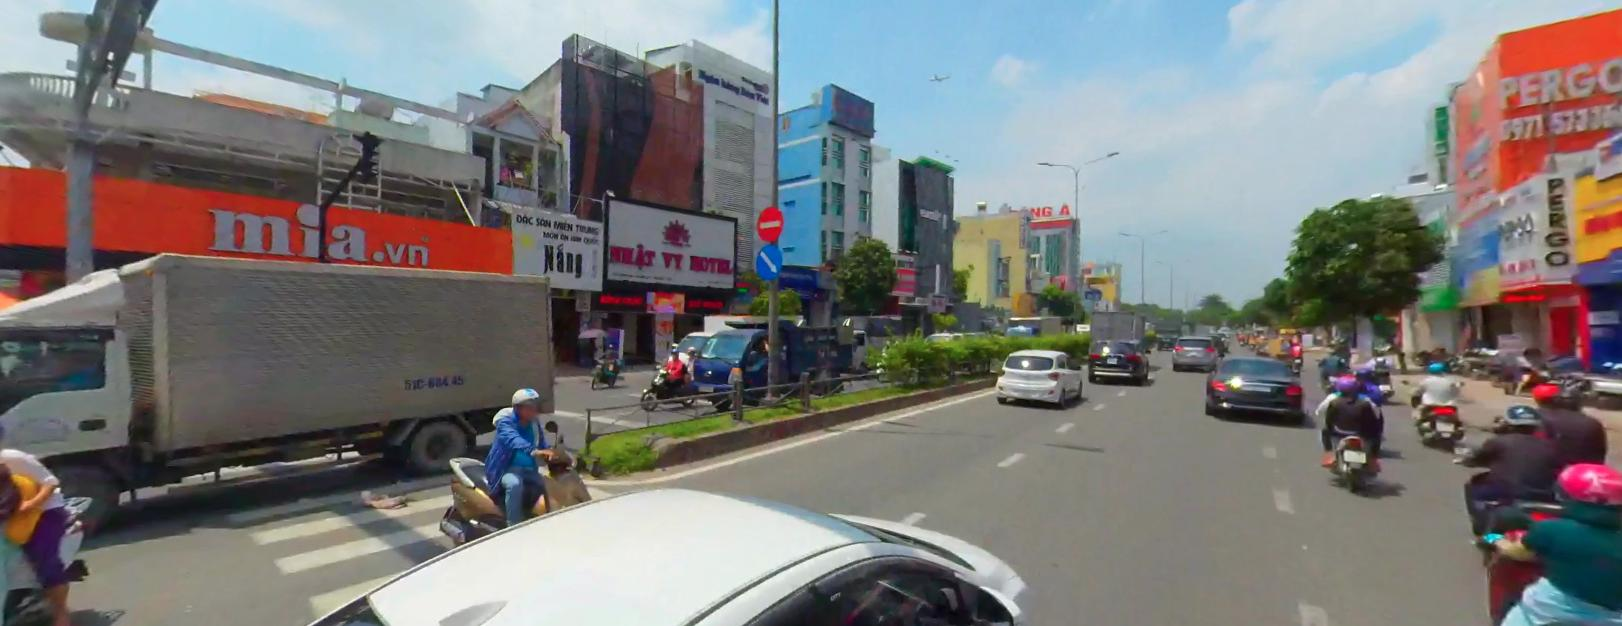Cam nguoc chieu: (753, 206, 784, 236)
Hieu lenh: (749, 245, 789, 279)
